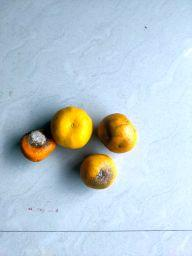orange: (51, 106, 94, 150), (96, 112, 138, 153), (78, 154, 119, 190), (20, 129, 57, 162)
